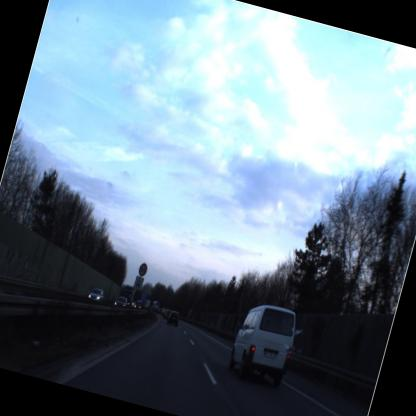prohibitory: (134, 256, 152, 279)
